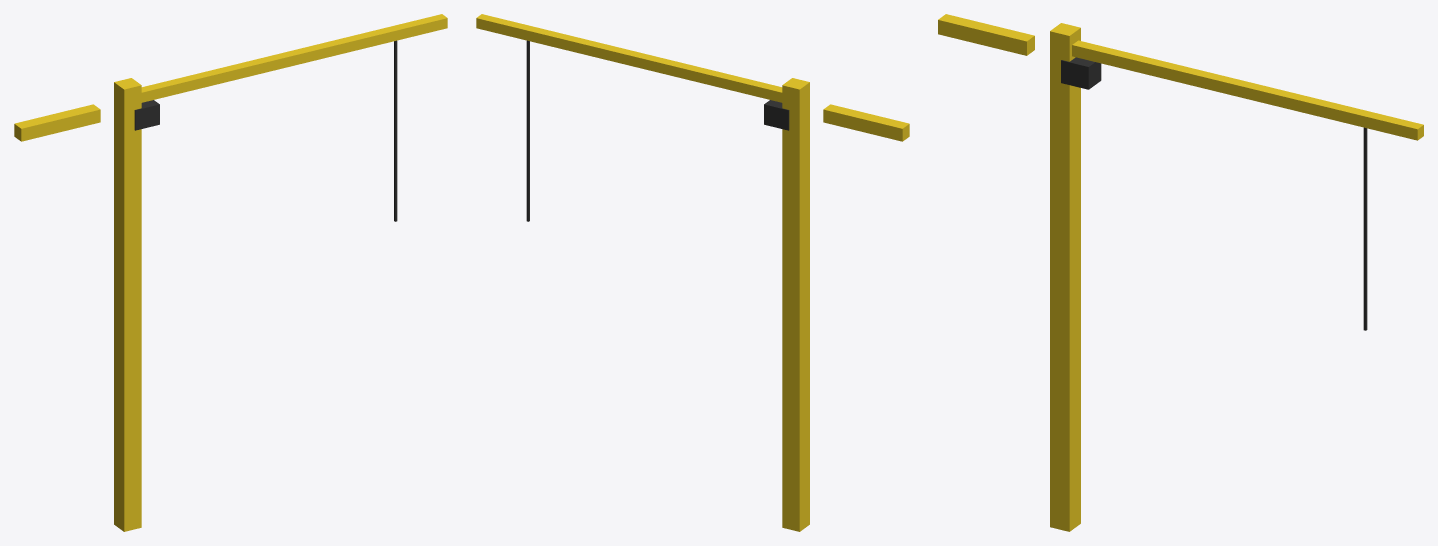
The model's file is tower_crane.dae.
3 renders of one model, left to right at view 1: azimuth 30°, elevation 25°; view 2: azimuth 150°, elevation 25°; view 3: azimuth 330°, elevation 25°, orthographic. The views are drawn at different scales.
Parts seen in each view (by area): view 1: mast, jib, counter, hook, cab; view 2: mast, jib, counter, hook, cab; view 3: mast, jib, counter, cab, hook.
Part boxes in pixels (x1,y1,x2,y2): mast: (114,78,141,531); jib: (141,14,447,102); counter: (14,104,100,141); hook: (394,40,397,221); cab: (134,100,159,130); mast: (782,78,809,531); jib: (476,14,782,102); counter: (823,104,909,141); hook: (526,40,529,221); cab: (764,100,789,130); mast: (1050,23,1080,531); jib: (1072,40,1423,140); counter: (938,14,1034,55); cab: (1061,57,1101,89); hook: (1363,127,1367,330).
Bounding box in the file's own units: 24.25 × 1.1 × 24.
